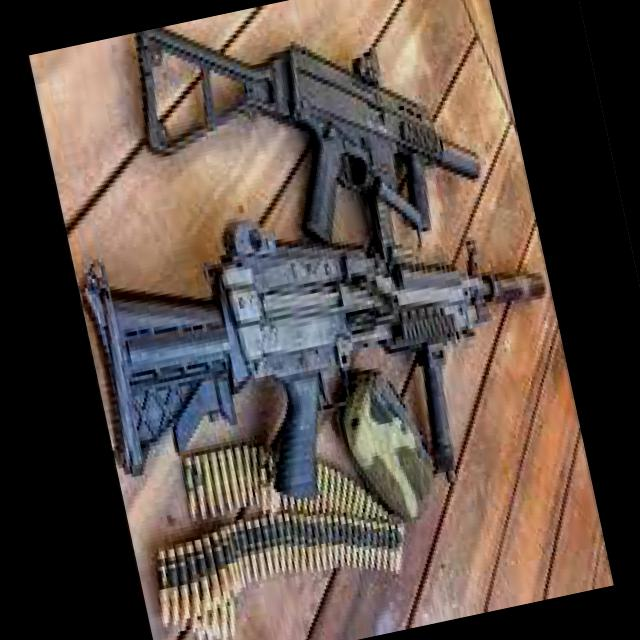long weapon: (78, 183, 590, 548), (118, 0, 515, 307)
